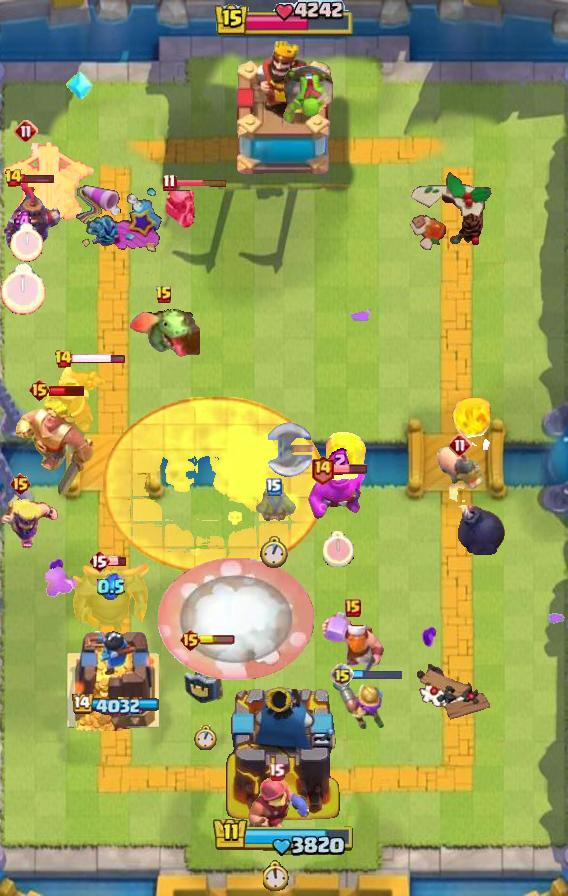arrows: (0, 492, 60, 550)
baby-dragon: (446, 484, 506, 556)
bar-level: (280, 64, 334, 126)
battle-ram: (162, 187, 198, 231)
bomb-tower: (333, 673, 385, 731)
clock: (212, 816, 356, 858), (213, 0, 355, 40)
electro-spirit: (97, 573, 125, 601), (325, 447, 350, 475), (13, 210, 36, 234)
electro-wizard: (128, 294, 200, 360)
elixir: (2, 263, 47, 315), (10, 222, 43, 261), (322, 531, 353, 567), (260, 535, 288, 568), (262, 861, 289, 892), (194, 725, 217, 751)
elixir-collector: (40, 363, 112, 435)
elixir-golem-big: (0, 179, 64, 271)
emote: (70, 352, 125, 365), (352, 669, 404, 681), (174, 177, 228, 187), (49, 384, 86, 397), (332, 463, 368, 475), (20, 173, 55, 184), (199, 635, 235, 645), (108, 556, 127, 567)
executioner: (437, 445, 483, 489)
fireball: (240, 777, 312, 851)
goblin-hut: (13, 395, 97, 499)
golemite: (68, 558, 154, 634)
king-tower: (223, 680, 345, 826), (228, 41, 340, 181)
lava-pup: (0, 142, 98, 224)
mighty-miner: (321, 610, 385, 674)
pad_2: (66, 68, 94, 102)
phoenix-egg: (101, 397, 325, 575)
princess: (183, 639, 227, 707)
queen-tower: (66, 621, 162, 731)
royal-giant: (265, 421, 321, 479)
selected: (69, 694, 158, 717)
text: (309, 455, 334, 486), (14, 119, 38, 143), (448, 433, 472, 457), (330, 663, 354, 687), (29, 378, 52, 402), (8, 472, 31, 496), (178, 628, 201, 652), (88, 549, 110, 573), (4, 168, 24, 188), (54, 349, 74, 369), (155, 285, 173, 305), (267, 763, 284, 781), (266, 478, 282, 496), (345, 599, 361, 617), (163, 173, 178, 191)
tornado: (306, 467, 370, 521)
valkyrie: (448, 390, 496, 450), (323, 426, 369, 484)
wall-breaker: (158, 558, 314, 680)
zap: (252, 484, 296, 526)
